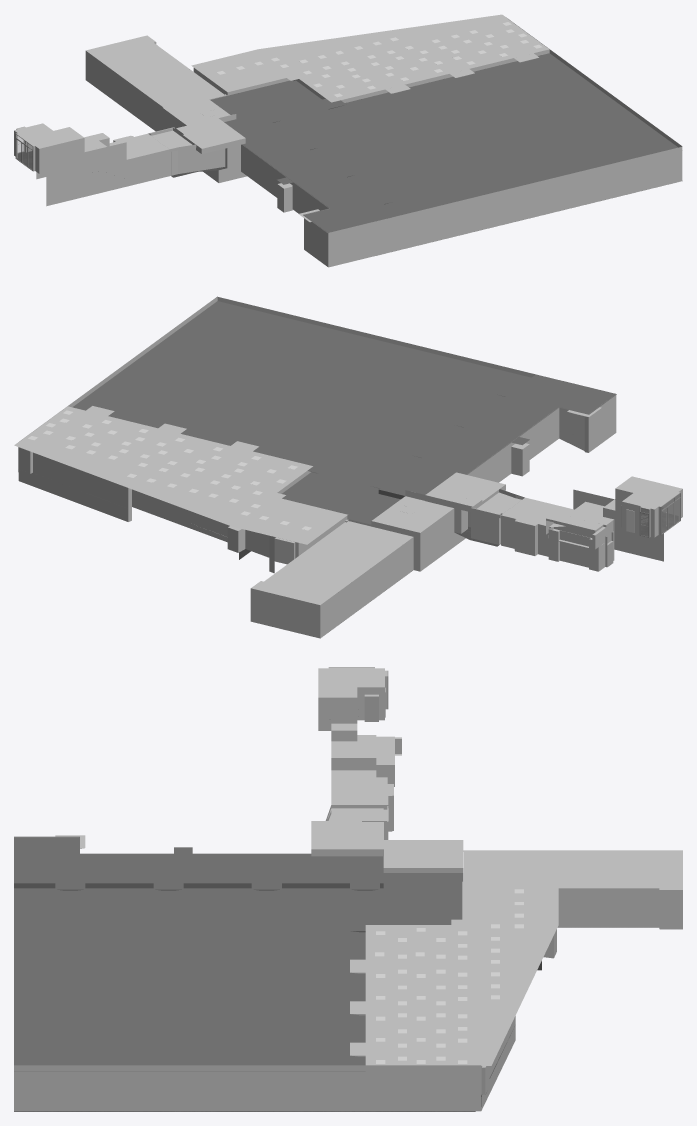
Rendered from makslas_telpa_prieks_aframe_04.glb.
3 renders of one model, top to bottom at view 1: azimuth 30°, elevation 25°; view 2: azimuth 150°, elevation 25°; view 3: azimuth 270°, elevation 25°, orthographic. The views are drawn at different scales.
Visible parts, largest first — view 1: griesti_zemie, PLATF_SIENA, griesti_augstie, griesti_augstie.MELNIE, garderobe, GRIESTI_MAZA_ZALE, IEEJA.GRIESTI, DEZURANRES_GRIDA, DEZURANTE?, IEEJA.003, LAMPA.001, augša vienai melnai kolonnai (+1 smaller); view 2: griesti_zemie, PLATF_SIENA, griesti_augstie, griesti_augstie.MELNIE, IEEJA.GRIESTI, garderobe, GRIESTI_MAZA_ZALE, DEZURANRES_GRIDA, LAMPA.001, IEEJA.003, augša vienai melnai kolonnai, STABI BALTI.004; view 3: griesti_zemie, PLATF_SIENA, griesti_augstie, griesti_augstie.MELNIE, IEEJA.GRIESTI, GRIESTI_MAZA_ZALE, DEZURANRES_GRIDA, LAMPA.001, IEEJA.003, augša vienai melnai kolonnai, STABI BALTI.004, grida.
Part boxes in pixels (box(x1,y1,x2,y2)): griesti_zemie: box(210, 53, 677, 215); PLATF_SIENA: box(85, 17, 682, 267); griesti_augstie: box(191, 14, 549, 102); griesti_augstie.MELNIE: box(224, 113, 398, 232); garderobe: box(36, 127, 183, 206); GRIESTI_MAZA_ZALE: box(86, 36, 224, 107); IEEJA.GRIESTI: box(14, 118, 245, 159); DEZURANRES_GRIDA: box(162, 97, 246, 182); DEZURANTE?: box(169, 114, 240, 176); IEEJA.003: box(14, 129, 84, 173); LAMPA.001: box(217, 22, 542, 97); augša vienai melnai kolonnai: box(261, 98, 393, 204); griesti_zemie: box(72, 301, 531, 524); PLATF_SIENA: box(18, 296, 616, 638); griesti_augstie: box(14, 406, 347, 544); griesti_augstie.MELNIE: box(378, 374, 616, 499); IEEJA.GRIESTI: box(425, 472, 682, 550); garderobe: box(468, 489, 663, 571); GRIESTI_MAZA_ZALE: box(254, 521, 412, 604); DEZURANRES_GRIDA: box(371, 496, 465, 571); LAMPA.001: box(28, 410, 311, 530); IEEJA.003: box(615, 488, 682, 537); augša vienai melnai kolonnai: box(303, 384, 517, 488); STABI BALTI.004: box(42, 438, 285, 502); griesti_zemie: box(14, 873, 463, 1071); PLATF_SIENA: box(14, 837, 682, 1111); griesti_augstie: box(365, 881, 558, 1065); griesti_augstie.MELNIE: box(14, 836, 383, 888); IEEJA.GRIESTI: box(311, 667, 401, 856); GRIESTI_MAZA_ZALE: box(463, 850, 682, 888); DEZURANRES_GRIDA: box(383, 840, 463, 872); LAMPA.001: box(375, 889, 523, 1063); IEEJA.003: box(318, 676, 387, 730); augša vienai melnai kolonnai: box(55, 883, 379, 932); STABI BALTI.004: box(451, 919, 474, 1054); grida: box(14, 927, 682, 1111).
Size of the model in its own units: 62.06 by 8.81 by 51.17.
Materials: 24 (5 with a texture image).
